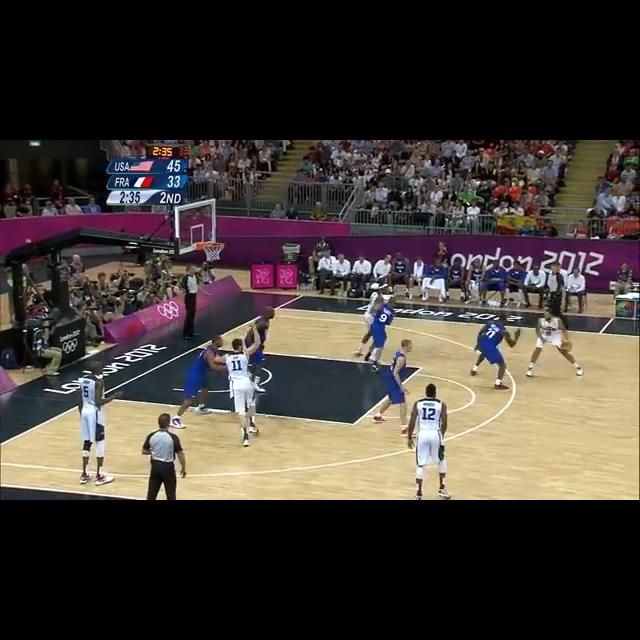basketball: (558, 343, 573, 355)
hoop: (202, 242, 226, 262)
